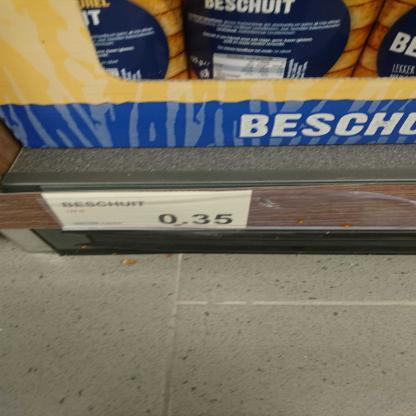prtg: (40, 191, 253, 231)
